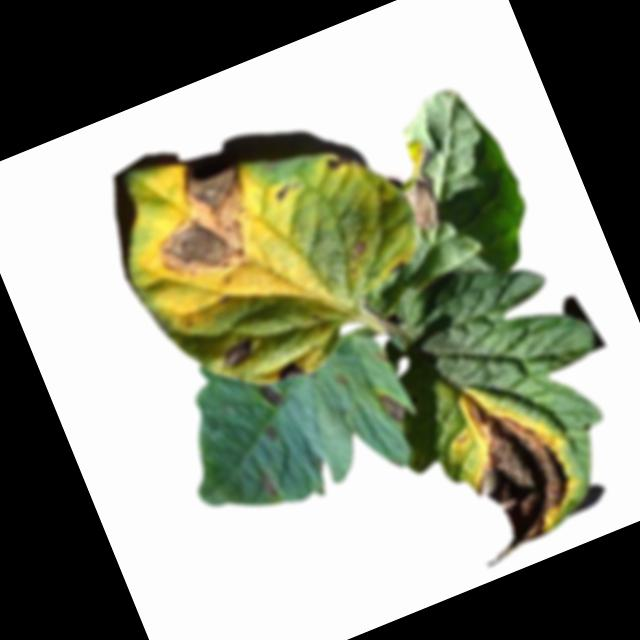Early_blight: (424, 365, 601, 572), (118, 144, 278, 303), (383, 133, 460, 237), (213, 335, 260, 372), (375, 387, 411, 429), (322, 148, 362, 185), (253, 463, 284, 503), (270, 355, 308, 387), (255, 381, 285, 415), (345, 236, 372, 261), (270, 184, 295, 208), (259, 421, 282, 447)
